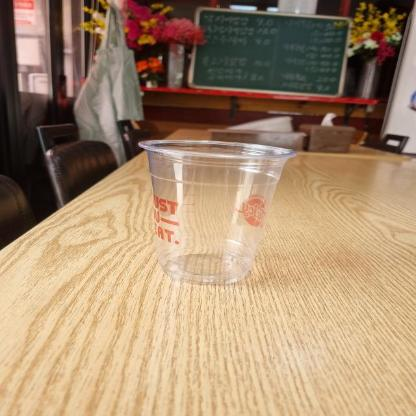Plastic Cup: (138, 136, 300, 289)
